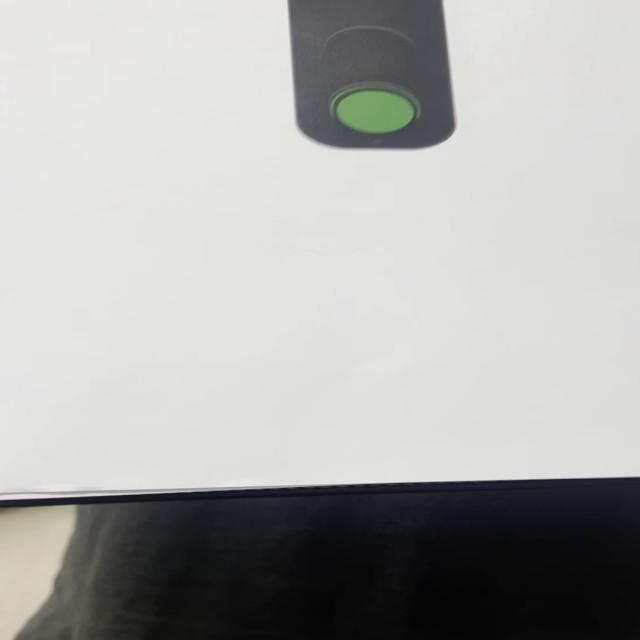green: (288, 1, 469, 151)
